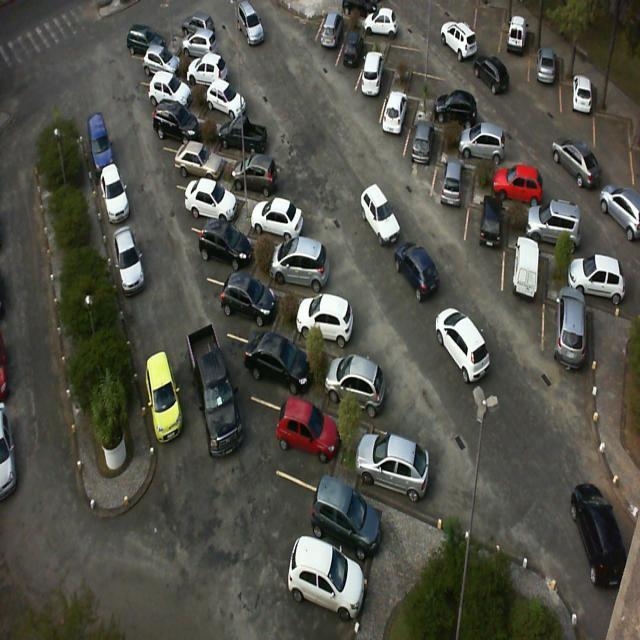space-empty: (410, 61, 458, 104), (389, 38, 428, 74)
space-occupied: (304, 468, 388, 582), (271, 390, 348, 479), (317, 353, 388, 431), (365, 425, 432, 507), (245, 326, 312, 406), (223, 270, 286, 343), (302, 288, 362, 358), (272, 235, 337, 297), (570, 260, 630, 322), (542, 303, 591, 374), (204, 224, 262, 281), (254, 192, 315, 246), (192, 176, 248, 234), (237, 148, 295, 200), (533, 205, 585, 263), (468, 198, 507, 272), (503, 241, 543, 312), (202, 78, 258, 127), (496, 165, 552, 214), (171, 139, 224, 188), (431, 163, 472, 225), (400, 122, 442, 182), (158, 101, 207, 151), (464, 124, 514, 170), (315, 9, 352, 68), (380, 92, 416, 152), (222, 117, 272, 160), (354, 63, 392, 116), (335, 40, 372, 94), (151, 75, 197, 116), (561, 75, 590, 136), (139, 46, 182, 87), (434, 94, 478, 134), (175, 31, 220, 68), (366, 11, 411, 48), (192, 58, 237, 94), (500, 30, 532, 79), (529, 50, 560, 100)
